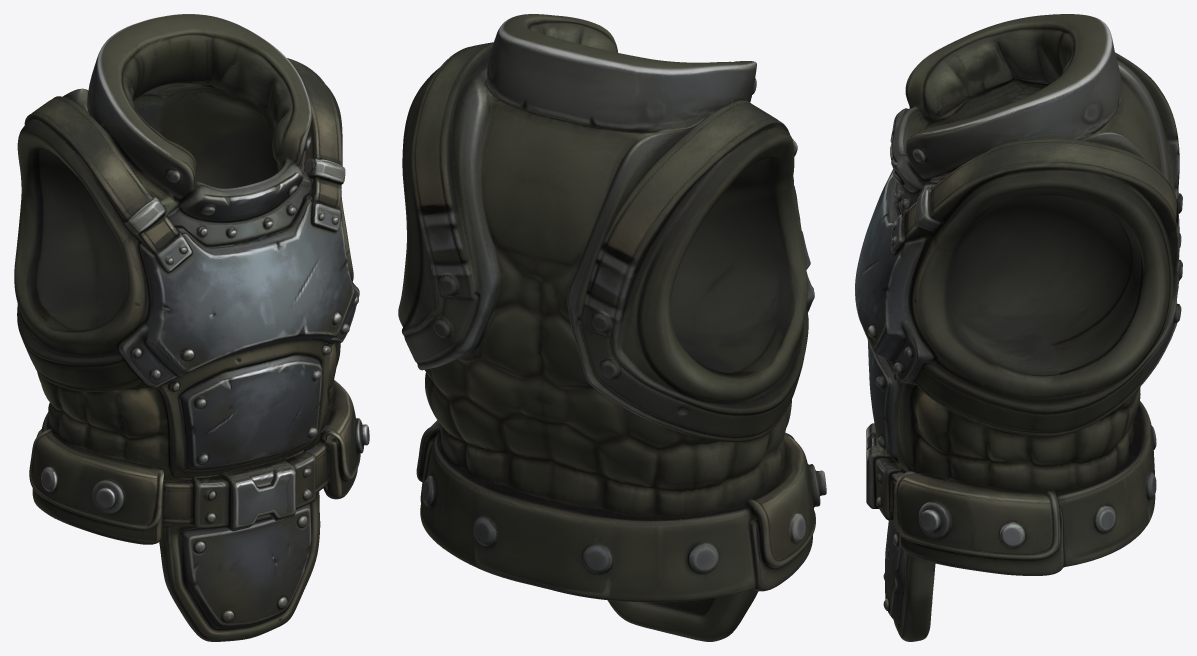
File: Meshy_AI_Reinforced_Armor_Mode_0217093825_texture.fbx
3 renders of one model, left to right at view 1: azimuth 30°, elevation 25°; view 2: azimuth 150°, elevation 25°; view 3: azimuth 270°, elevation 25°, orthographic. The views are drawn at different scales.
Parts seen in each view (by area): view 1: Mesh_0; view 2: Mesh_0; view 3: Mesh_0.
Part boxes in pixels (x1,y1,x2,y2): Mesh_0: (14,14,369,641); Mesh_0: (398,14,826,641); Mesh_0: (855,14,1182,641).
Bounding box in the file's own units: 110 × 190 × 95.8.
1 material, 1 textured.
